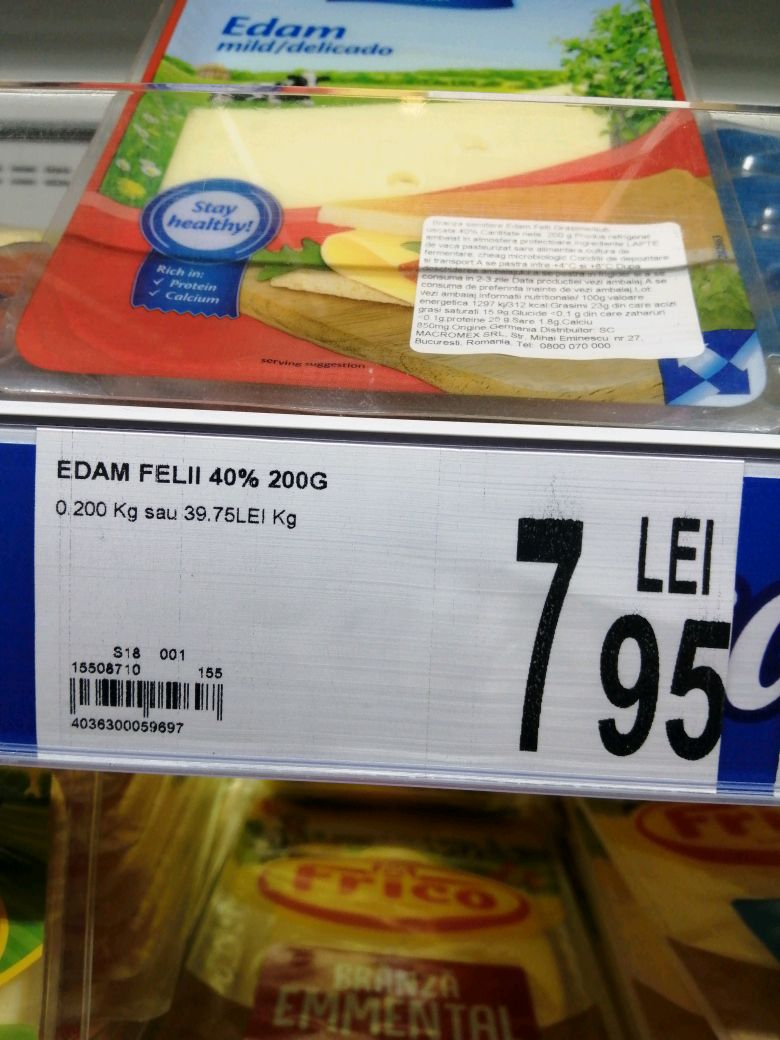price_bani: (598, 602, 737, 760)
price_lei: (490, 510, 591, 760)
price_tag: (18, 421, 750, 804)
product_id: (61, 712, 194, 744)
product_name: (39, 452, 353, 499)
